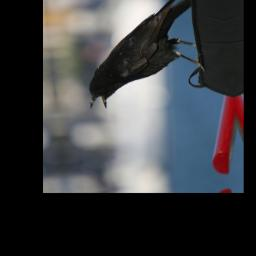Crow: (76, 0, 212, 112)
